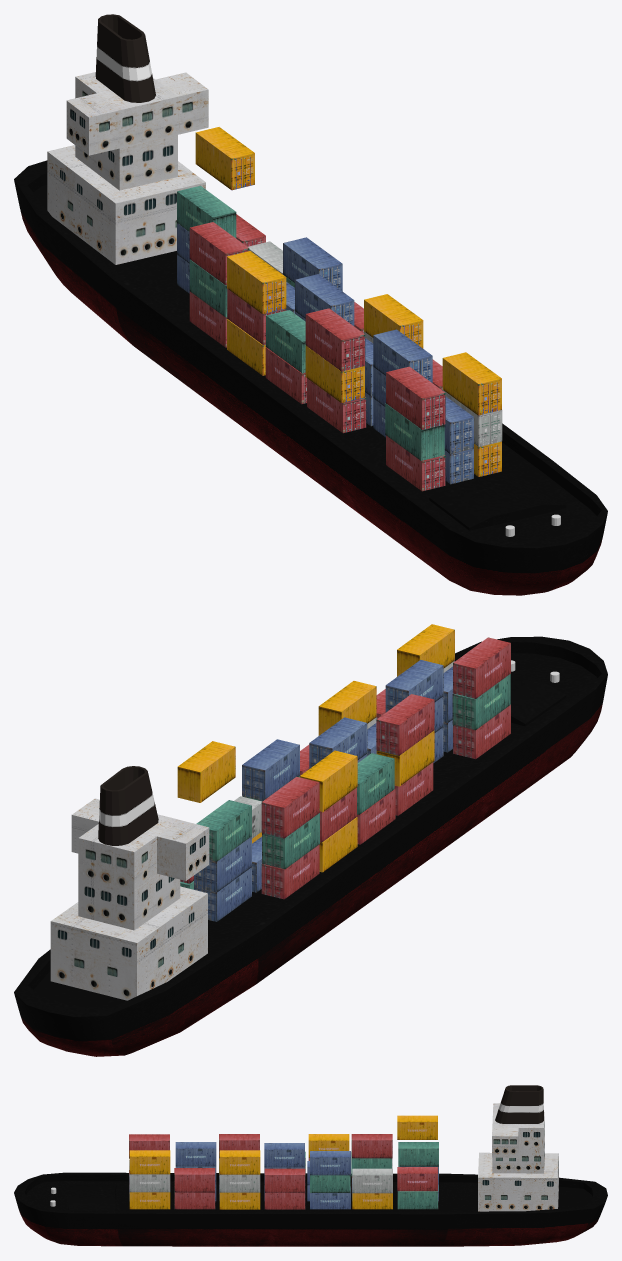
The model's file is cargo_ship.glb.
3 renders of one model, top to bottom at view 1: azimuth 30°, elevation 25°; view 2: azimuth 150°, elevation 25°; view 3: azimuth 270°, elevation 25°, orthographic. The views are drawn at different scales.
Parts seen in each view (by area): view 1: Cube.001, Cube.020, Cube.489, Cube.506, Cube.497, Cube.536, Cube.538, Cube.500, Cube.540, Cube.494, Cube.542, Cube.486 (+15 smaller); view 2: Cube.001, Cube.020, Cube.497, Cube.500, Cube.489, Cube.538, Cube.494, Cube.542, Cube.506, Cube.486, Cube.536, Cube.540 (+13 smaller); view 3: Cube.001, Cube.020, Cube.476, Cube.486, Cube.539, Cube.500, Cube.490, Cube.536, Cube.540, Cube.492, Cube.494, Cube.497 (+16 smaller).
Part boxes in pixels (box(x1,y1,x2,y2)): Cube.001: box(14, 160, 607, 595); Cube.020: box(47, 14, 208, 264); Cube.489: box(305, 308, 365, 371); Cube.506: box(227, 251, 286, 314); Cube.497: box(195, 127, 254, 190); Cube.536: box(442, 352, 501, 415); Cube.538: box(386, 366, 445, 429); Cube.500: box(189, 222, 249, 285); Cube.540: box(373, 329, 432, 382); Cube.494: box(283, 237, 342, 291); Cube.542: box(177, 185, 236, 238); Cube.486: box(364, 294, 423, 348); Cube.001: box(14, 636, 607, 1056); Cube.020: box(50, 766, 209, 1000); Cube.497: box(177, 741, 235, 802); Cube.500: box(261, 776, 319, 838); Cube.489: box(376, 694, 434, 755); Cube.538: box(453, 637, 510, 698); Cube.494: box(242, 739, 299, 800); Cube.542: box(196, 800, 251, 861); Cube.506: box(299, 750, 357, 812); Cube.486: box(318, 681, 376, 735); Cube.536: box(397, 624, 454, 676); Cube.540: box(385, 659, 443, 712); Cube.001: box(14, 1172, 607, 1246); Cube.020: box(478, 1085, 558, 1211); Cube.476: box(352, 1168, 392, 1193); Cube.486: box(219, 1150, 260, 1174); Cube.539: box(174, 1168, 215, 1192); Cube.500: box(351, 1134, 392, 1158); Cube.490: box(264, 1168, 305, 1192); Cube.536: box(129, 1150, 170, 1174); Cube.540: box(175, 1142, 216, 1166); Cube.492: box(264, 1143, 304, 1167); Cube.494: box(310, 1151, 350, 1175); Cube.497: box(397, 1115, 437, 1139).
Bounding box in the file's own units: 15.83 × 25.51 × 95.68.
Materials: 7 (7 with a texture image).
